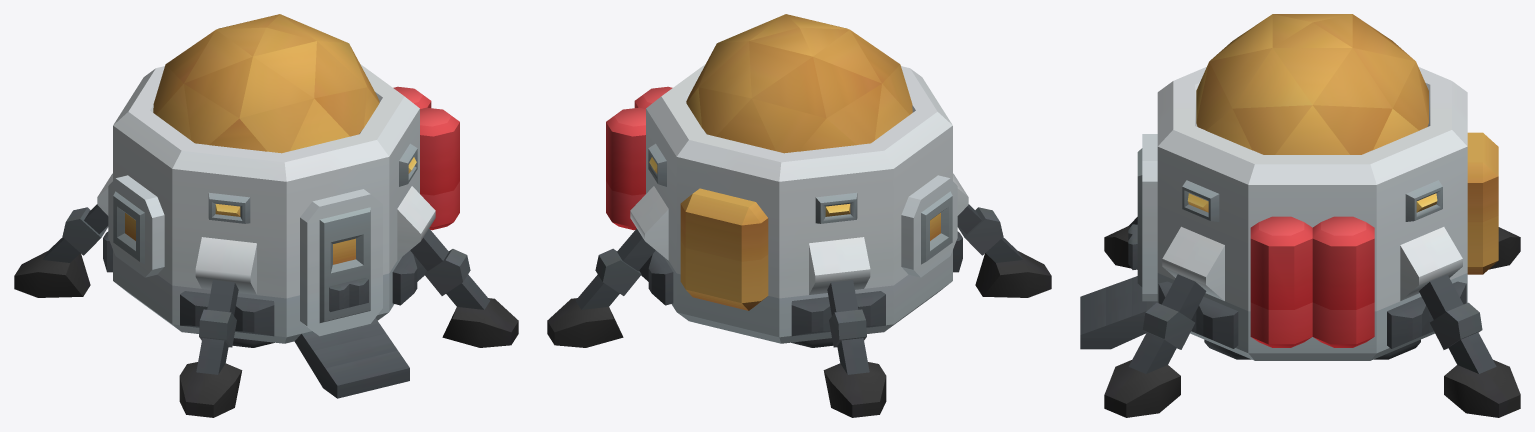
The model's file is kay-modulo-pouso-b.gltf.
3 views of the same model, side by side, from view 1: azimuth 30°, elevation 25°; view 2: azimuth 150°, elevation 25°; view 3: azimuth 270°, elevation 25° (orthographic). The views are drawn at different scales.
Visible parts, largest first — view 1: lander_B; view 2: lander_B; view 3: lander_B.
Boxes of the visible parts, box(x1,y1,x2,y2) form: lander_B: box(14, 14, 518, 417); lander_B: box(547, 14, 1051, 417); lander_B: box(1080, 14, 1520, 417).
Bounding box in the file's own units: 3.57 × 2.85 × 3.7.
Materials: 1 (1 with a texture image).
